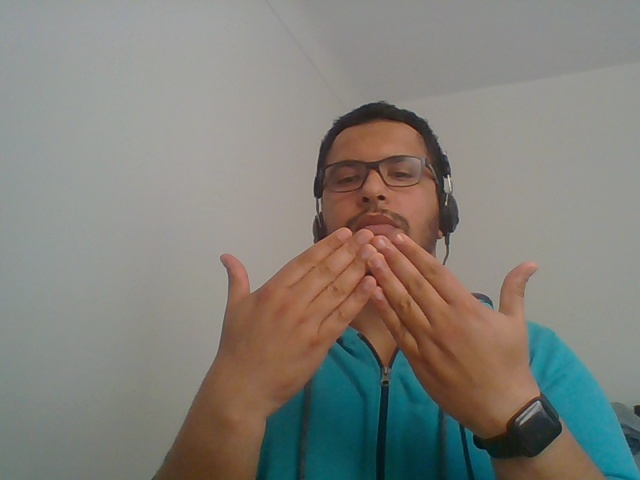thanks: (143, 208, 619, 480)
